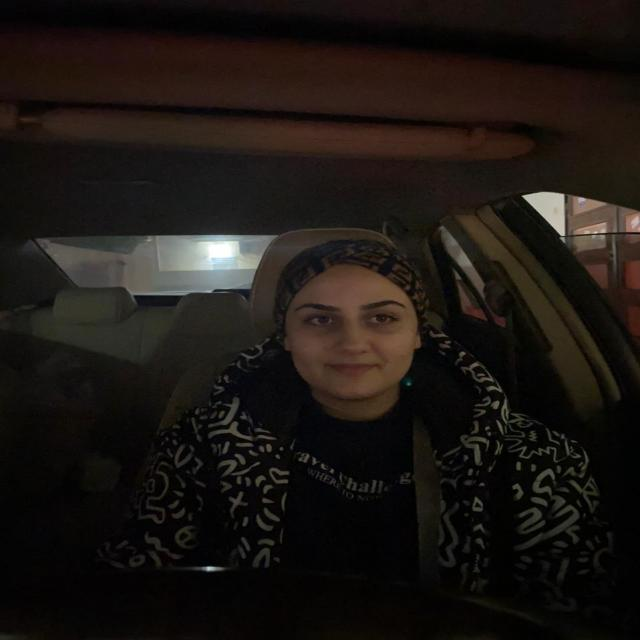person: (284, 247, 427, 401)
